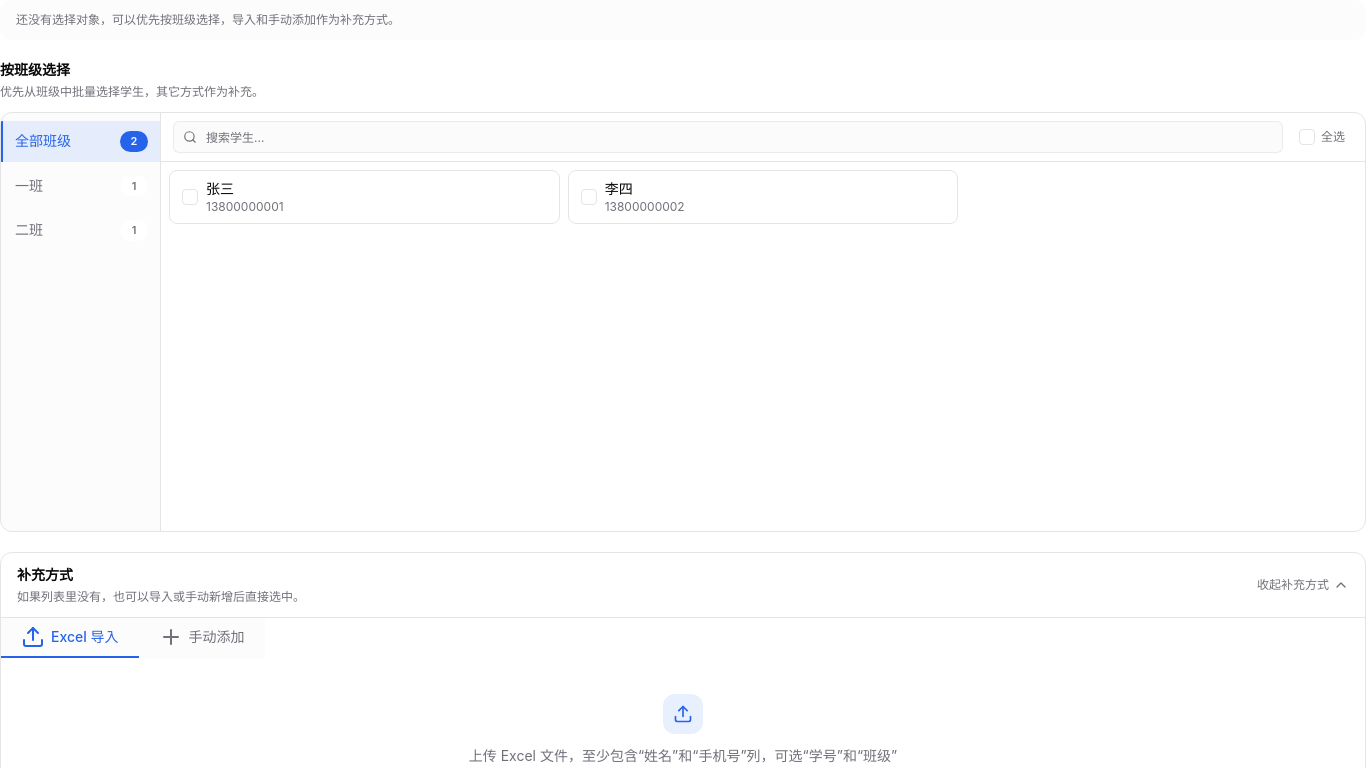
Scenario: StudentSelector › shows manual add fields for name, phone, optional student id, and class
This screenshot has width=1366, height=768.
Click the tab "手动添加": click(202, 638) [138,618,264,658]
(page scrolled)
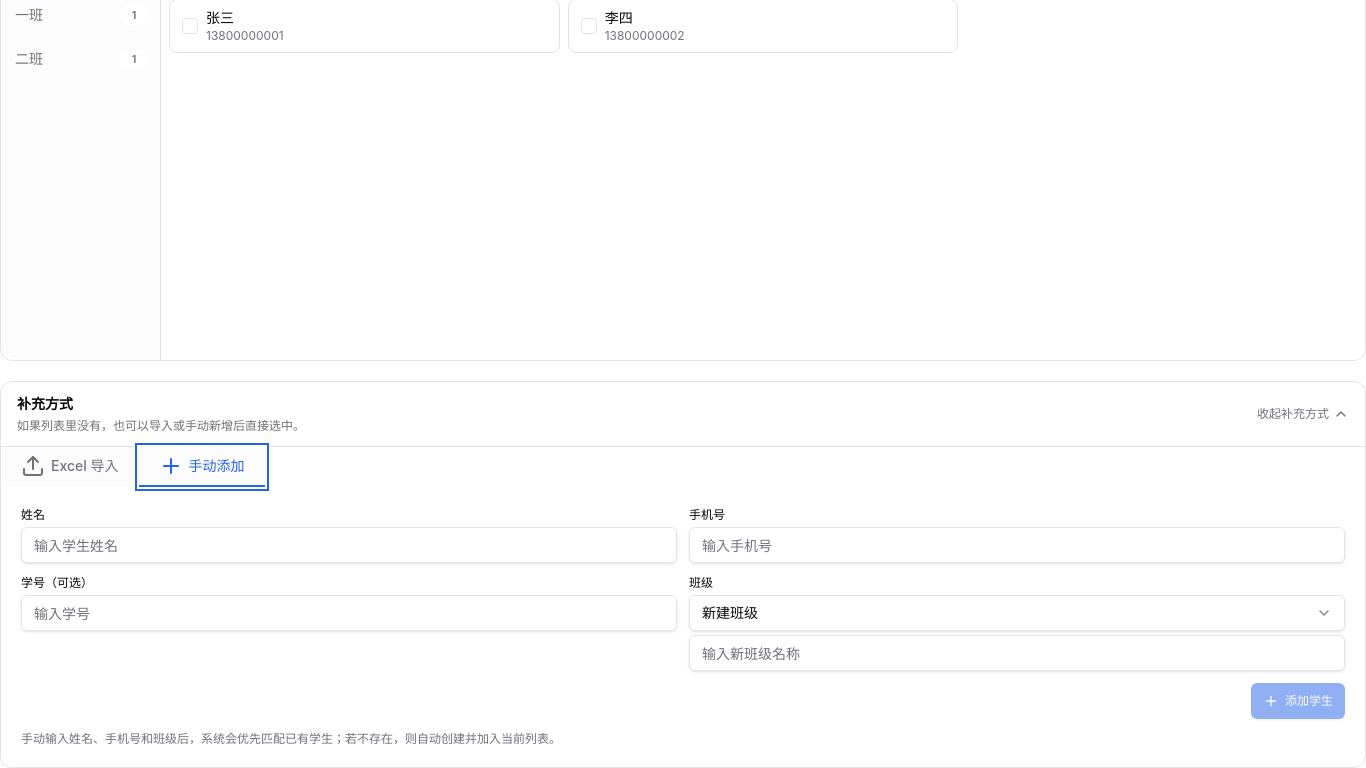
Now the field labelled "姓名" is shown, box [21,527,677,563]
Now the field labelled "手机号" is shown, box [689,527,1345,563]
Now the field labelled "学号（可选）" is shown, box [21,595,677,631]
